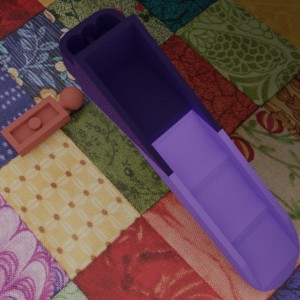lego: (58, 8, 300, 292), (0, 86, 84, 157)
